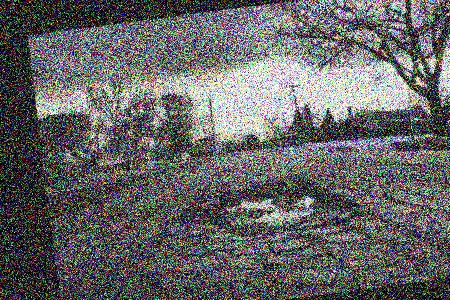pothole: (198, 170, 358, 244)
